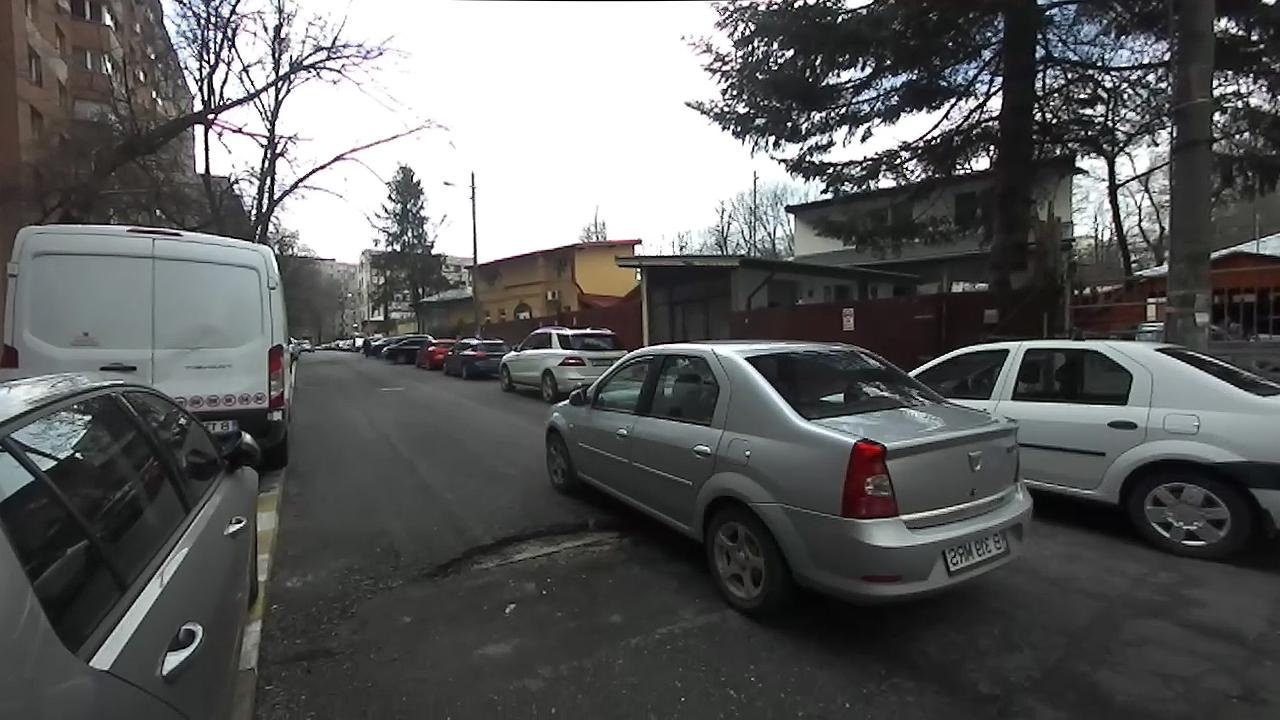pothole: (416, 518, 637, 584)
